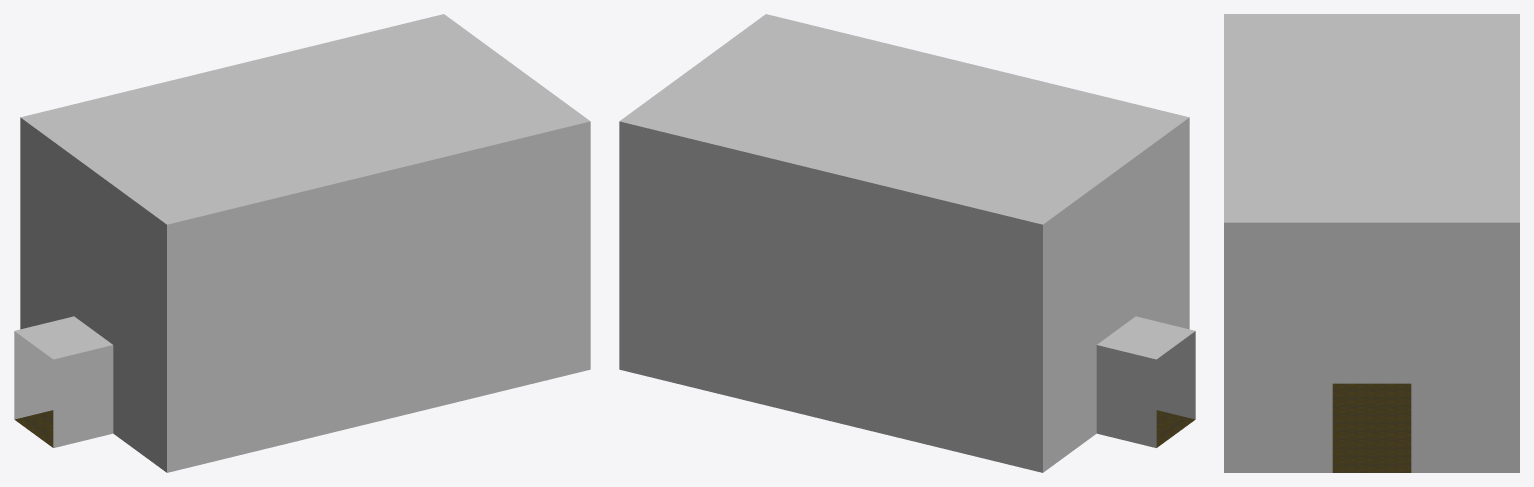
File: RoomLargo.fbx
The picture shows the model from 3 angles, left to right: view 1: azimuth 30°, elevation 25°; view 2: azimuth 150°, elevation 25°; view 3: azimuth 270°, elevation 25°; orthographic projection.
Parts seen in each view (by area): view 1: WallLargo, FloorLargo; view 2: WallLargo, FloorLargo; view 3: WallLargo, FloorLargo.
Part boxes in pixels (box(x1,y1,x2,y2)): WallLargo: box(14, 14, 590, 472); FloorLargo: box(14, 410, 53, 447); WallLargo: box(619, 14, 1195, 472); FloorLargo: box(1156, 410, 1195, 447); WallLargo: box(1224, 14, 1519, 472); FloorLargo: box(1332, 383, 1411, 472).
Bounding box in the file's own units: 2853 × 1400 × 1499.
